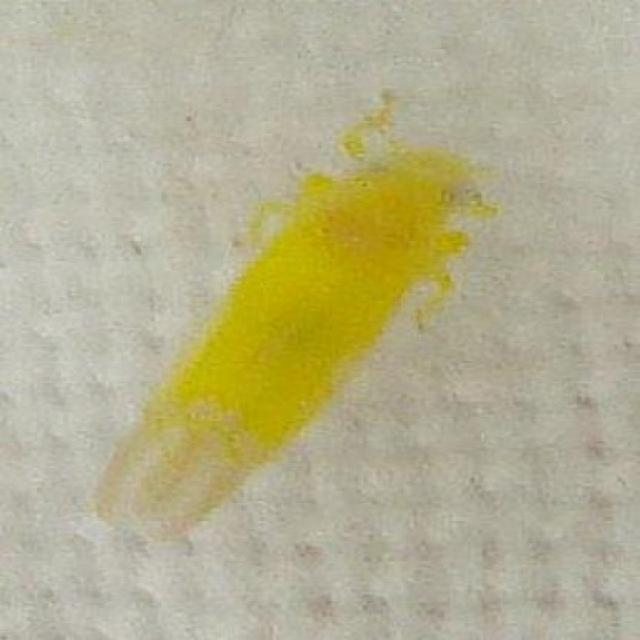green-leafhopper: (108, 117, 509, 541)
